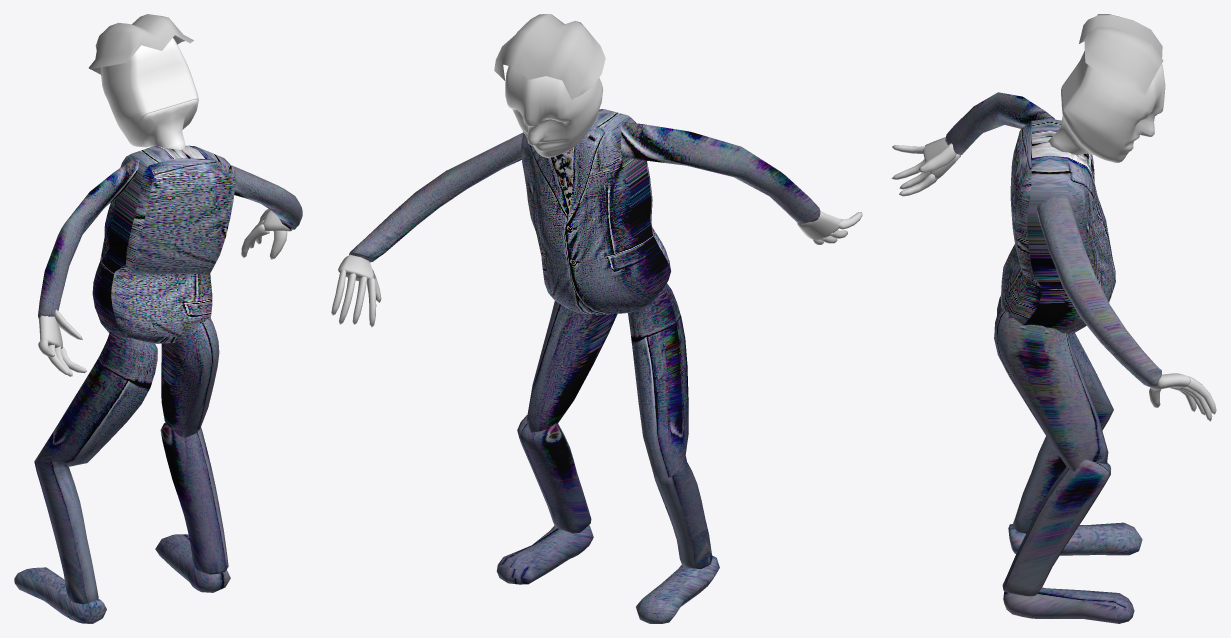
The model's file is SM_A_Ashraf00.fbx.
3 views of the same model, side by side, from view 1: azimuth 30°, elevation 25°; view 2: azimuth 150°, elevation 25°; view 3: azimuth 270°, elevation 25° (orthographic). The views are drawn at different scales.
Visible parts, largest first — view 1: SM_A_Ashraf00, SM_A_Ashraf00.002; view 2: SM_A_Ashraf00, SM_A_Ashraf00.002; view 3: SM_A_Ashraf00, SM_A_Ashraf00.002.
Part boxes in pixels (x1,y1,x2,y2): SM_A_Ashraf00: (14, 145, 302, 623); SM_A_Ashraf00.002: (89, 14, 198, 149); SM_A_Ashraf00: (331, 109, 862, 623); SM_A_Ashraf00.002: (494, 14, 605, 157); SM_A_Ashraf00: (891, 92, 1216, 623); SM_A_Ashraf00.002: (1048, 14, 1165, 162).
Size of the model in its own units: 163 by 228 by 115.
